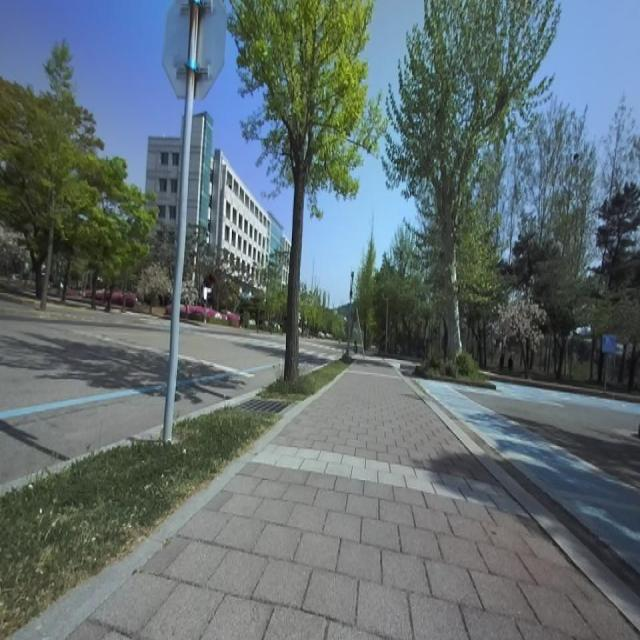sidewalk: (24, 358, 640, 640)
